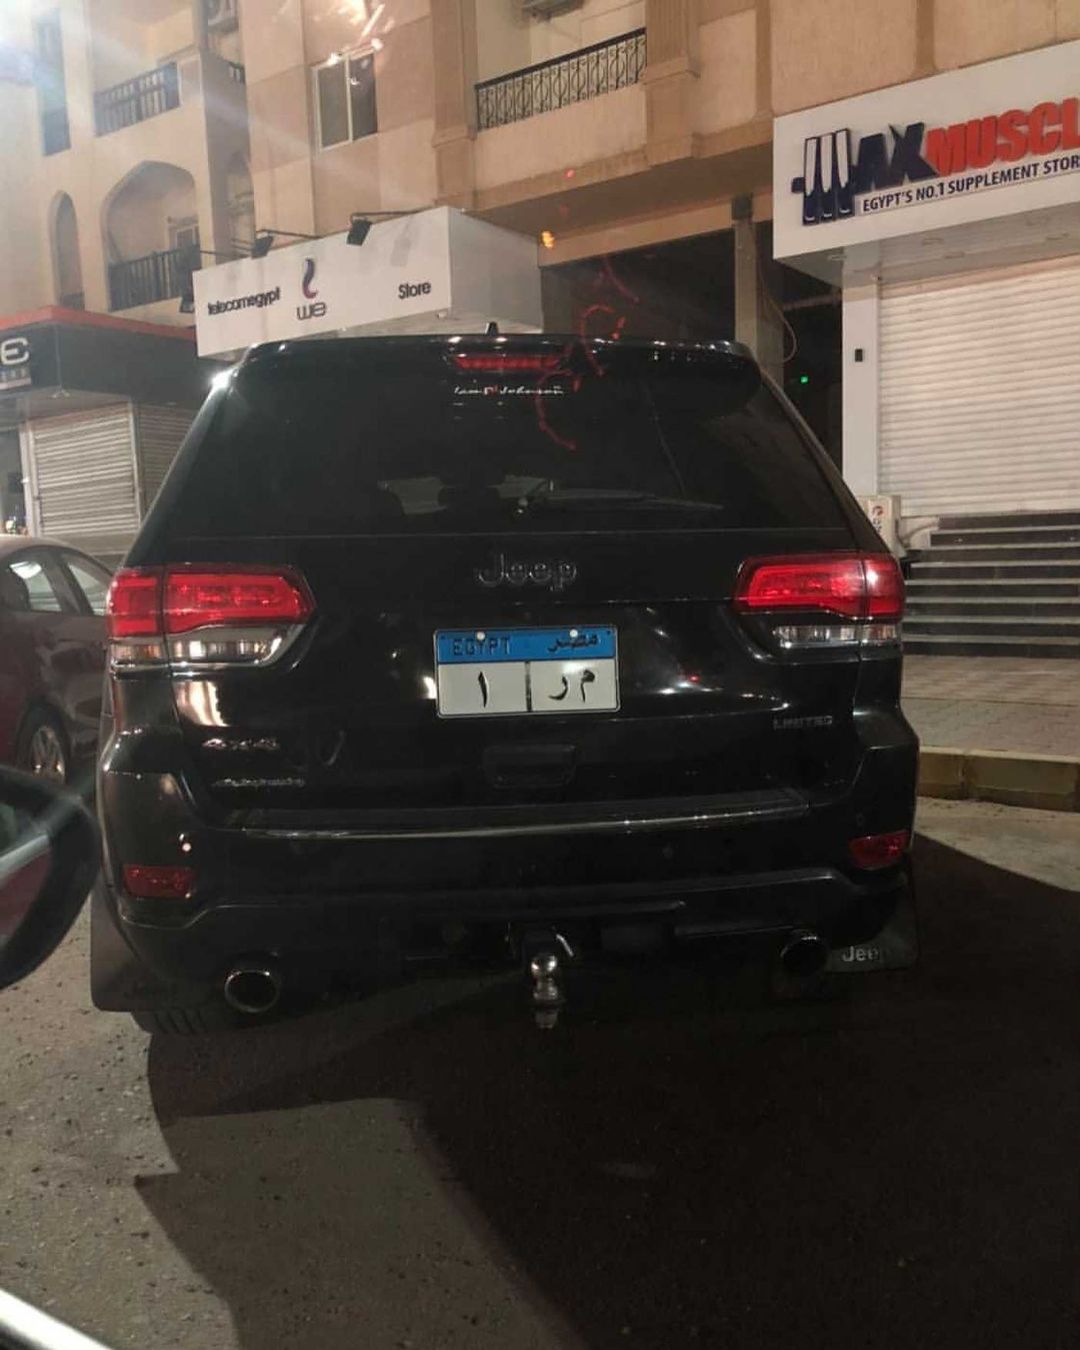carpl: (432, 632, 621, 719)
